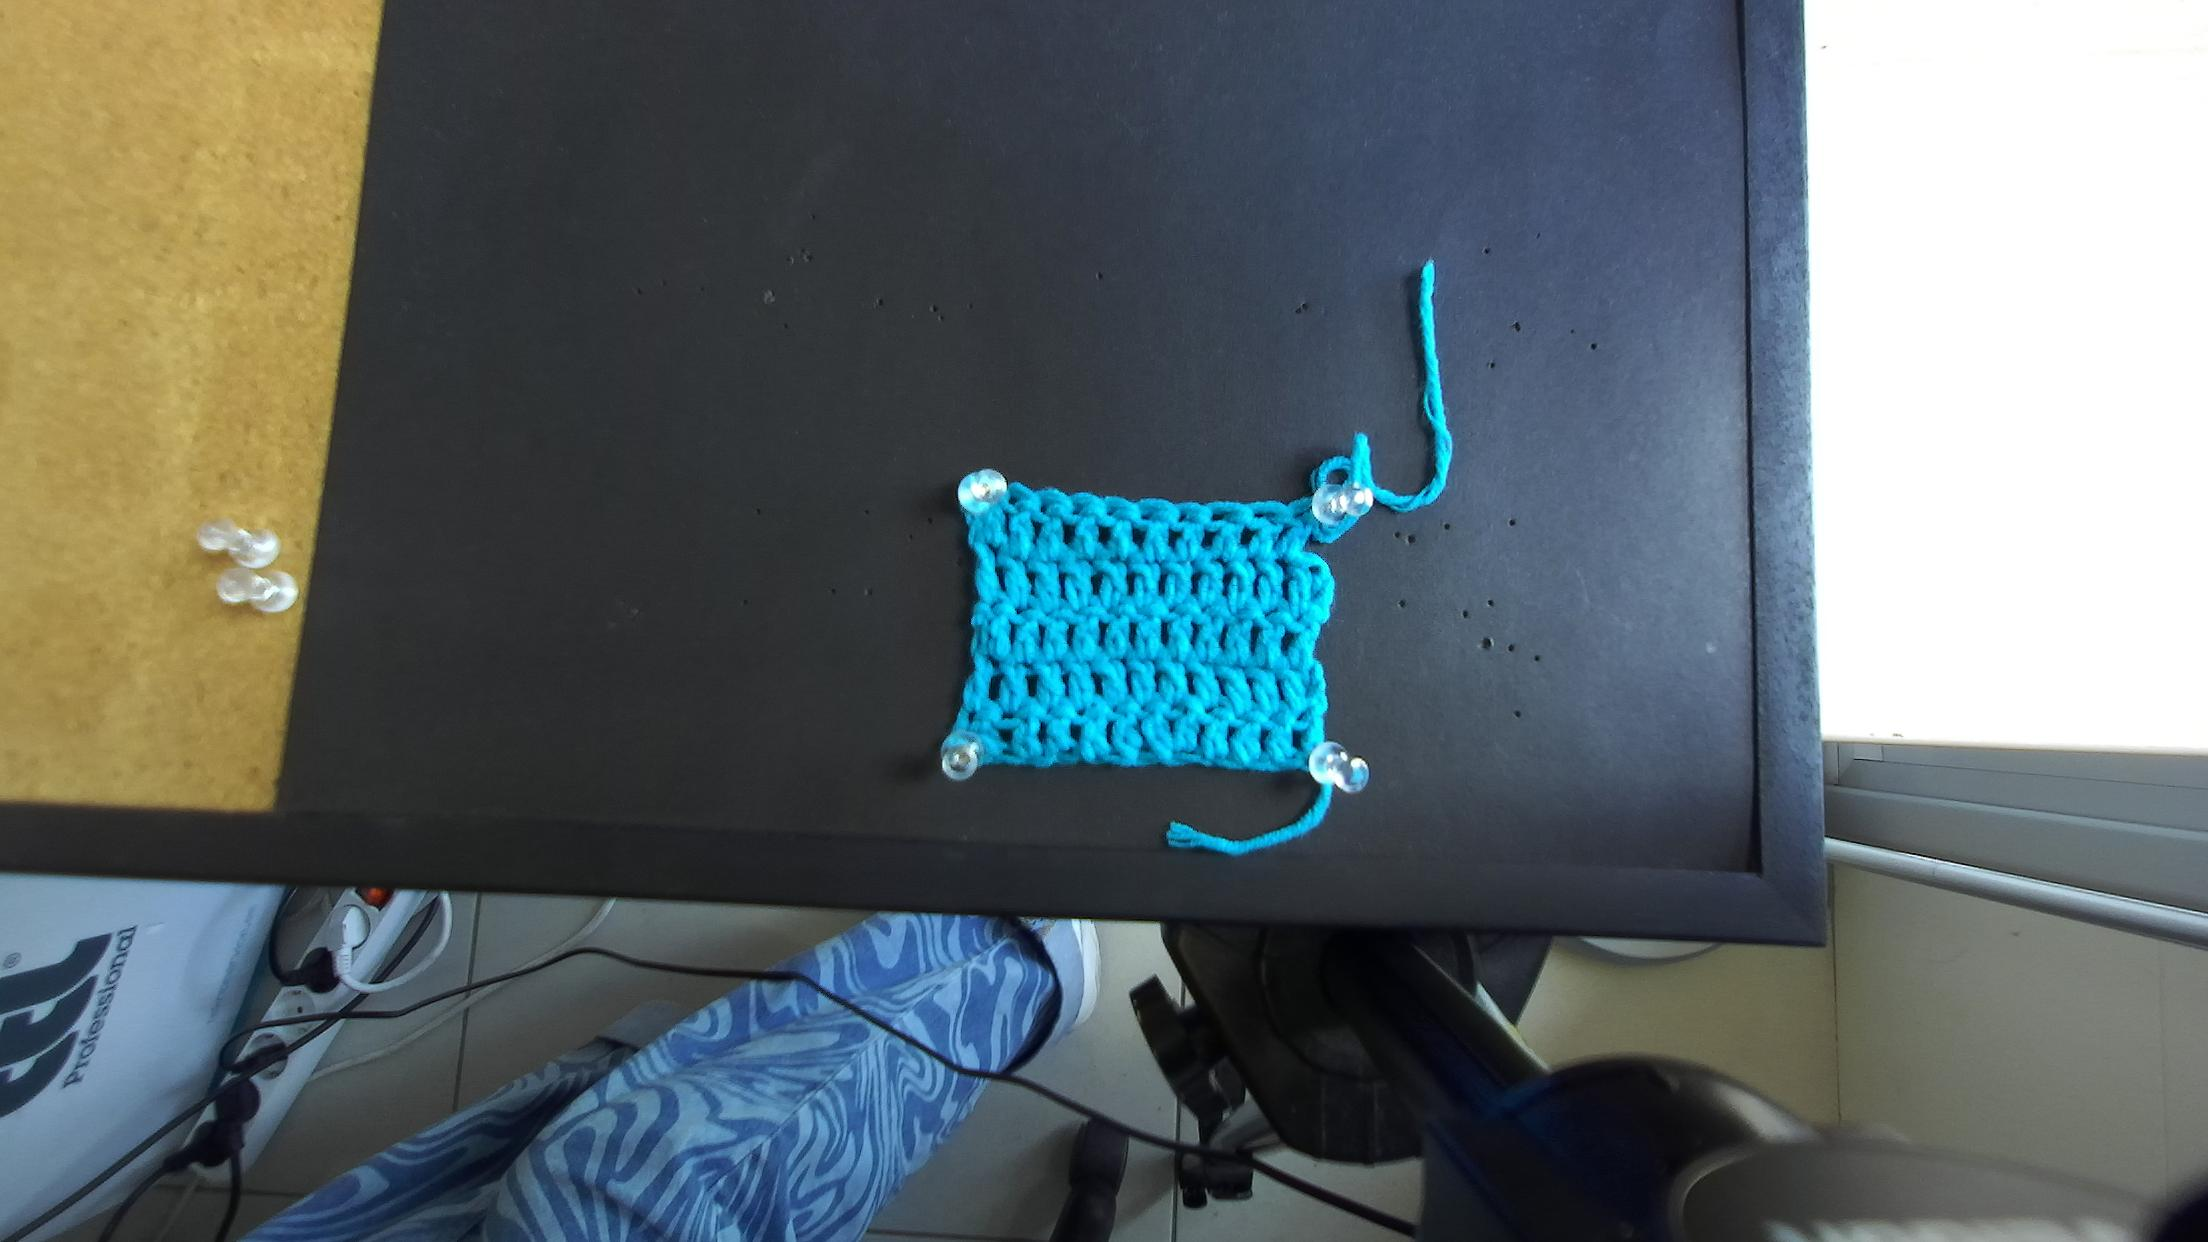hole: (1292, 507, 1312, 522), (1253, 510, 1274, 520), (1212, 513, 1230, 522), (1140, 511, 1157, 520), (1177, 511, 1187, 522), (1106, 508, 1118, 517), (1071, 508, 1084, 516), (1008, 496, 1018, 507), (1040, 505, 1046, 513)
swatch: (937, 475, 1341, 784)
